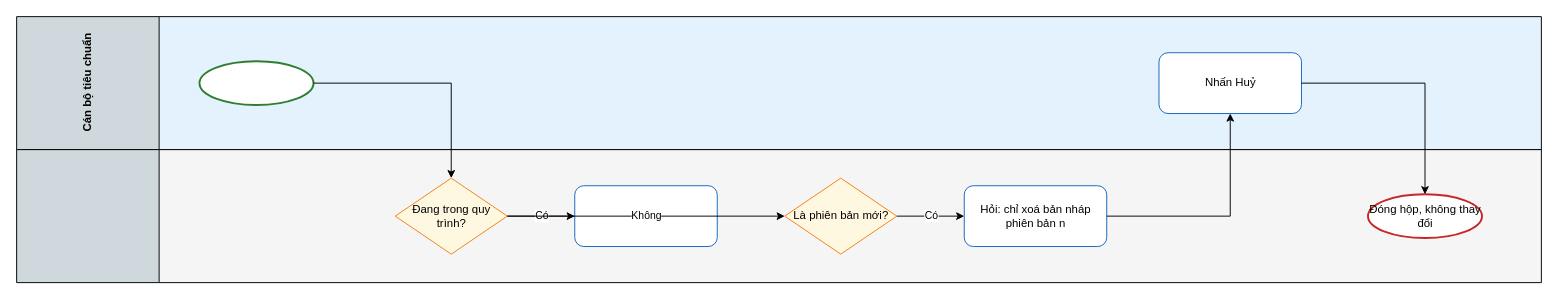
Image size: 1558x299. Some labels were removed from this diagram. The box of each missing label's shape, as (x1, y1, x2, y2) in pixels:
Chặn, liệt kê quy trình: (574, 185, 717, 247)
Hệ thống: (16, 149, 1541, 283)
Nhấn Xoá: (198, 60, 314, 105)
